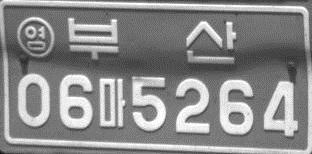0: (16, 72, 51, 128)
2: (174, 77, 211, 134)
4: (263, 81, 299, 137)
5: (131, 75, 167, 133)
6: (217, 77, 254, 137), (58, 73, 93, 131)
마: (98, 77, 127, 129)
부산_D: (66, 16, 237, 65)
영: (16, 16, 54, 58)
